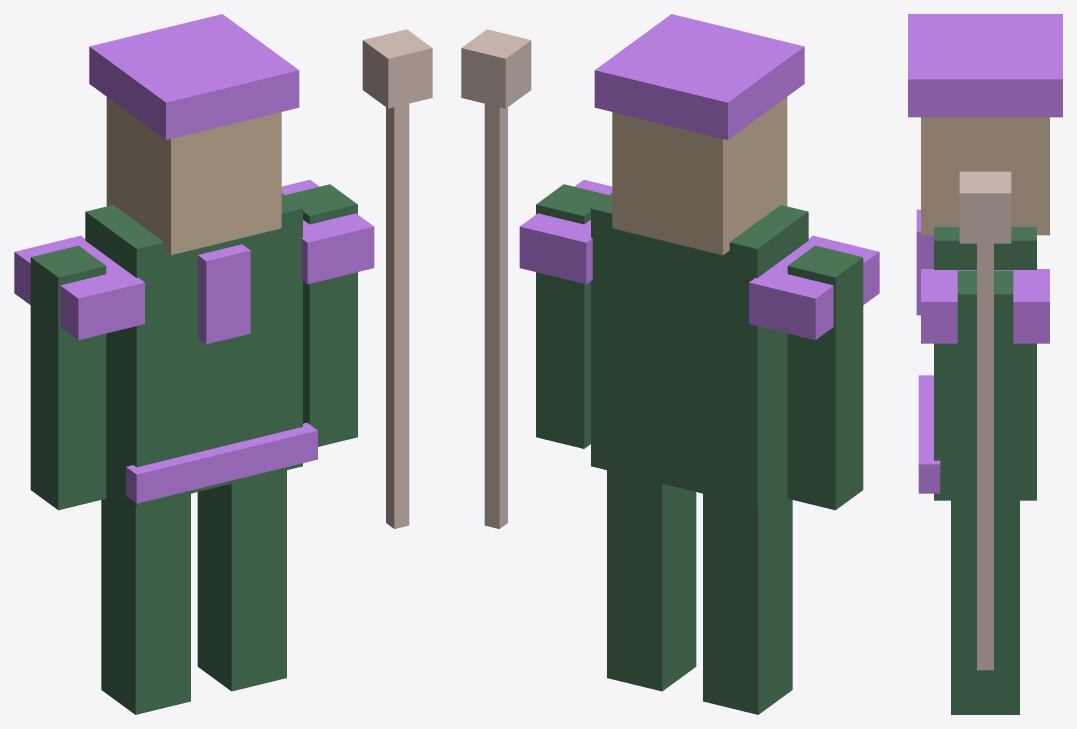
The model's file is 09_korra_trenchmark_diver_of.glb.
3 renders of one model, left to right at view 1: azimuth 30°, elevation 25°; view 2: azimuth 150°, elevation 25°; view 3: azimuth 270°, elevation 25°, orthographic.
Parts seen in each view (by area): view 1: Korra Trenchmark, Diver of; view 2: Korra Trenchmark, Diver of; view 3: Korra Trenchmark, Diver of.
Boxes of the visible parts, x1,y1,x2,y2 form: Korra Trenchmark, Diver of: (14,14,432,714); Korra Trenchmark, Diver of: (461,14,879,714); Korra Trenchmark, Diver of: (908,14,1062,714).
Bounding box in the file's own units: 0.9857 × 1.57 × 0.3496.
